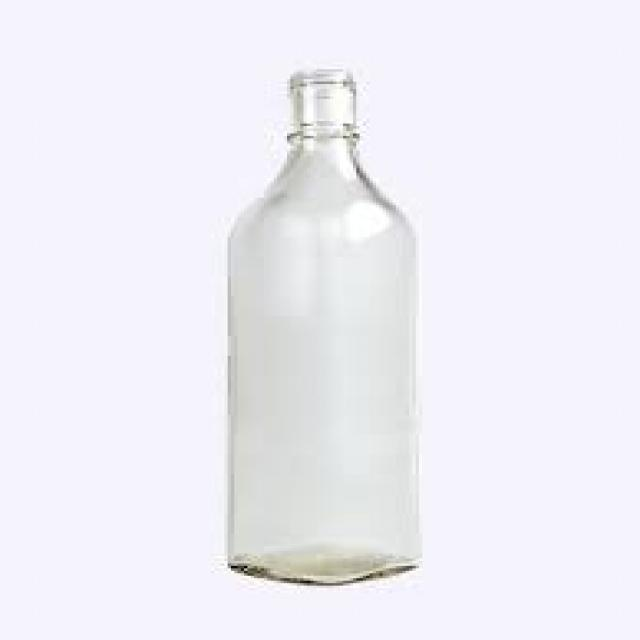Glass-Non-Biodegradable but Recyclable-: (227, 72, 427, 589)
